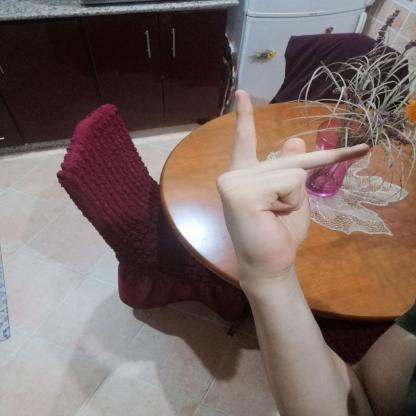DHAA: (203, 78, 382, 288)
